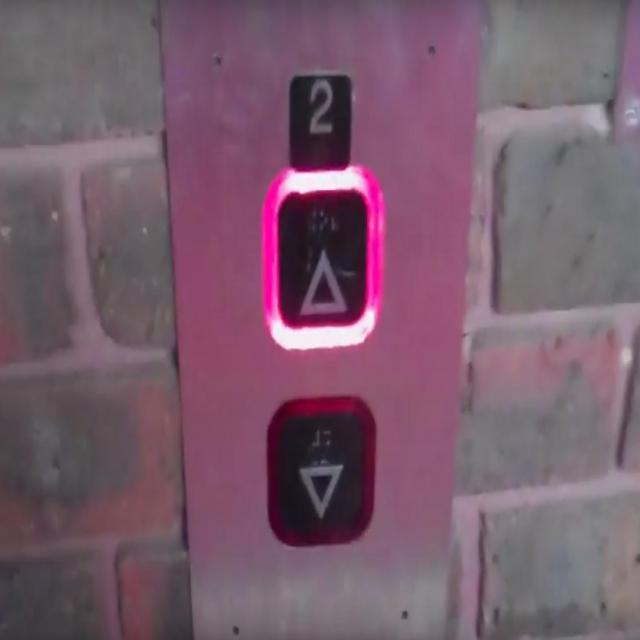2: (289, 71, 352, 173)
down: (268, 398, 378, 548)
up: (261, 164, 384, 350)
